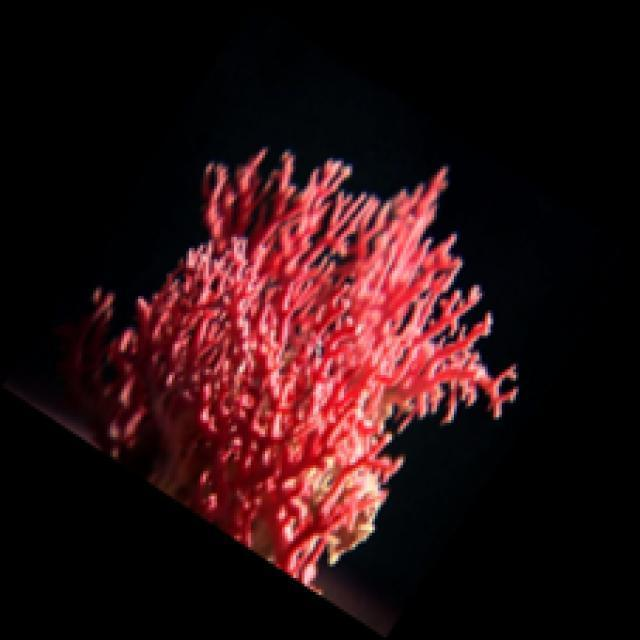Healthy: (65, 149, 525, 595)
